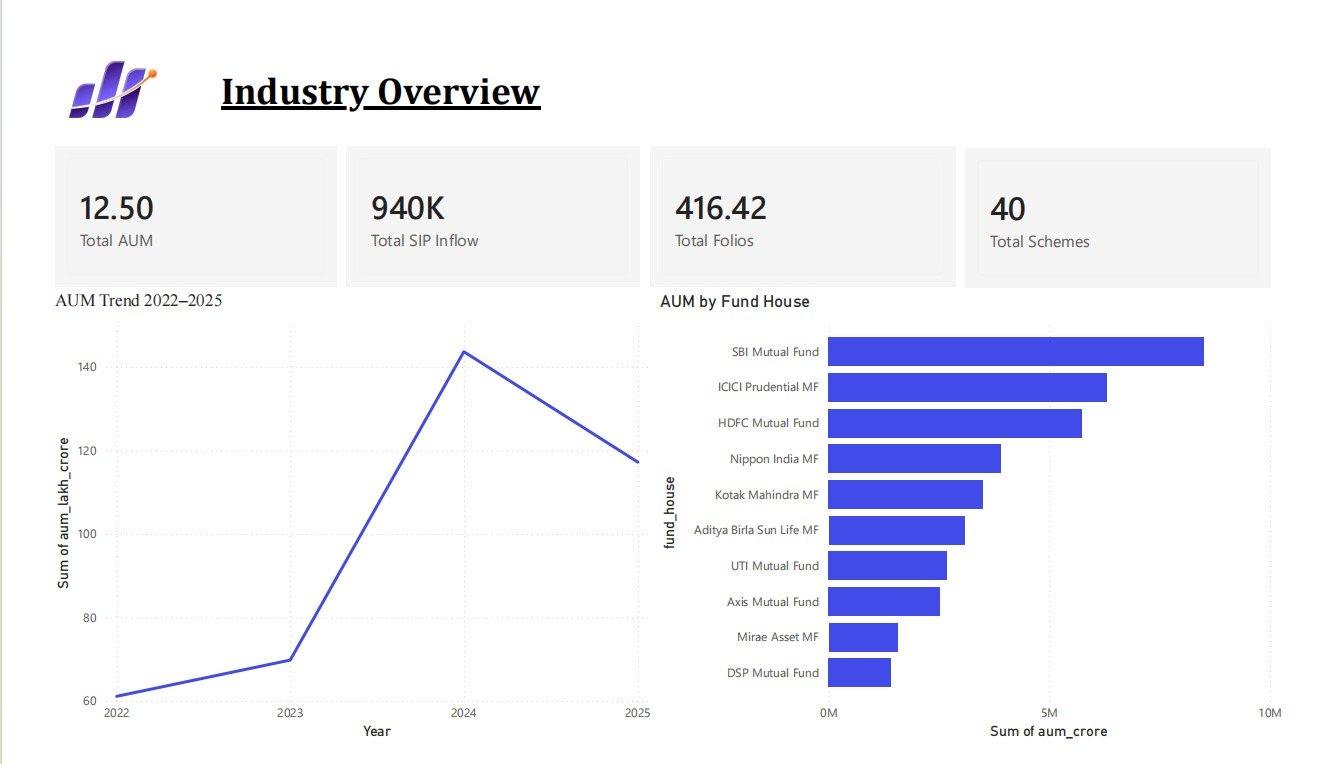

What the dashboard file says about the page in this screenshot:
{"tool":"powerbi","page":{"name":"Industry Overview","canvas":[1280,720],"ordinal":0},"visuals":[{"type":"cardVisual","fields":{"Data":["clean_aum_fund_house.Total AUM"]},"box":[23.6,118.1,291.4,149.7],"z":0},{"type":"cardVisual","fields":{"Data":["clean_aum_fund_house.Total Folios"]},"box":[617.5,118.1,315.1,149.7],"z":1000},{"type":"cardVisual","fields":{"Data":["clean_aum_fund_house.Total Schemes"]},"box":[932.6,119.7,315.1,149.7],"z":2000},{"type":"cardVisual","fields":{"Data":["clean_aum_fund_house.Total SIP Inflow"]},"box":[315.1,118.1,302.5,149.7],"z":3000},{"type":"lineChart","title":"AUM Trend 2022–2025","fields":{"Category":["clean_aum_fund_house.date.Variation.Date Hierarchy.Year","clean_aum_fund_house.date.Variation.Date Hierarchy.Quarter","clean_aum_fund_house.date.Variation.Date Hierarchy.Month","clean_aum_fund_house.date.Variation.Date Hierarchy.Day"],"Y":["Sum(clean_aum_fund_house.aum_lakh_crore)"]},"box":[23.6,267.8,604.9,452.1],"z":4000},{"type":"clusteredBarChart","title":"AUM by Fund House","fields":{"Category":["clean_aum_fund_house.fund_house"],"Y":["Sum(clean_aum_fund_house.aum_crore)"]},"box":[628.6,267.8,630.1,452.1],"z":5000},{"type":"image","box":[23.6,14.2,107.1,104],"z":5001},{"type":"textbox","box":[149.7,41,1005.1,59.9],"z":5002}]}

Visuals, with their boxes in screenshot pixels (x1, y1, x2, y2), scaled from the page's 1280x720 canvas onto the 1330x764 screenshot:
cardVisual - clean_aum_fund_house.Total AUM: (25, 125, 327, 284)
cardVisual - clean_aum_fund_house.Total Folios: (642, 125, 969, 284)
cardVisual - clean_aum_fund_house.Total Schemes: (969, 127, 1296, 286)
cardVisual - clean_aum_fund_house.Total SIP Inflow: (327, 125, 642, 284)
"AUM Trend 2022–2025" lineChart: (25, 284, 653, 763)
"AUM by Fund House" clusteredBarChart: (653, 284, 1308, 763)
image: (25, 15, 136, 125)
textbox: (156, 44, 1200, 107)
